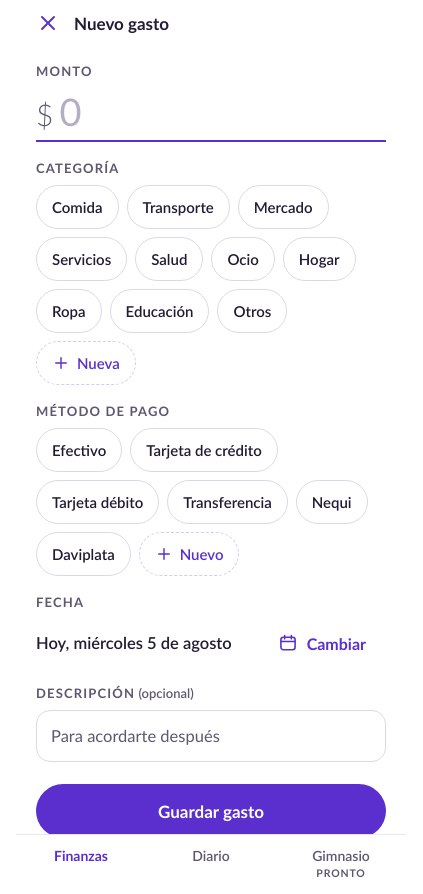
Test: criteria 2.2 and 2.3 — validation names the offending field › rejects an empty amount and both missing choices, all at once
The image size is (423, 894).
Click the button "Guardar gasto": (211, 811) [36, 784, 386, 838]
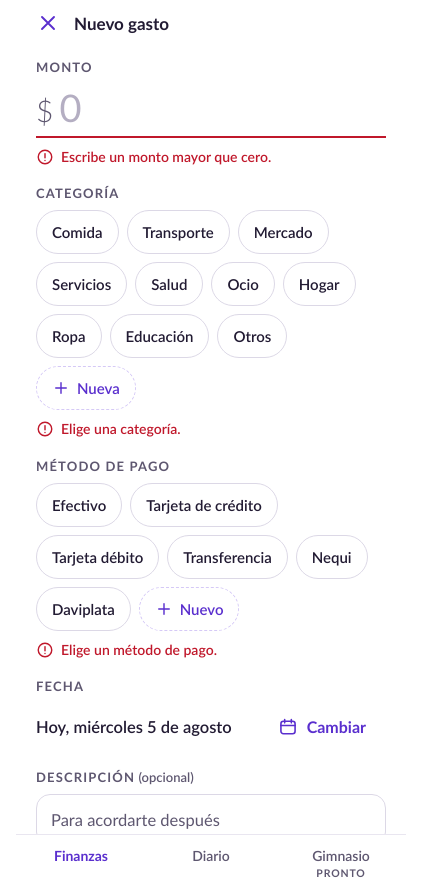
Check: the text "Escribe un monto mayor que cero." is shown, box [61, 147, 271, 167]
Check: the text "Elige una categoría." is shown, box [61, 419, 181, 440]
Check: the text "Elige un método de pago." is shown, box [61, 640, 217, 660]
